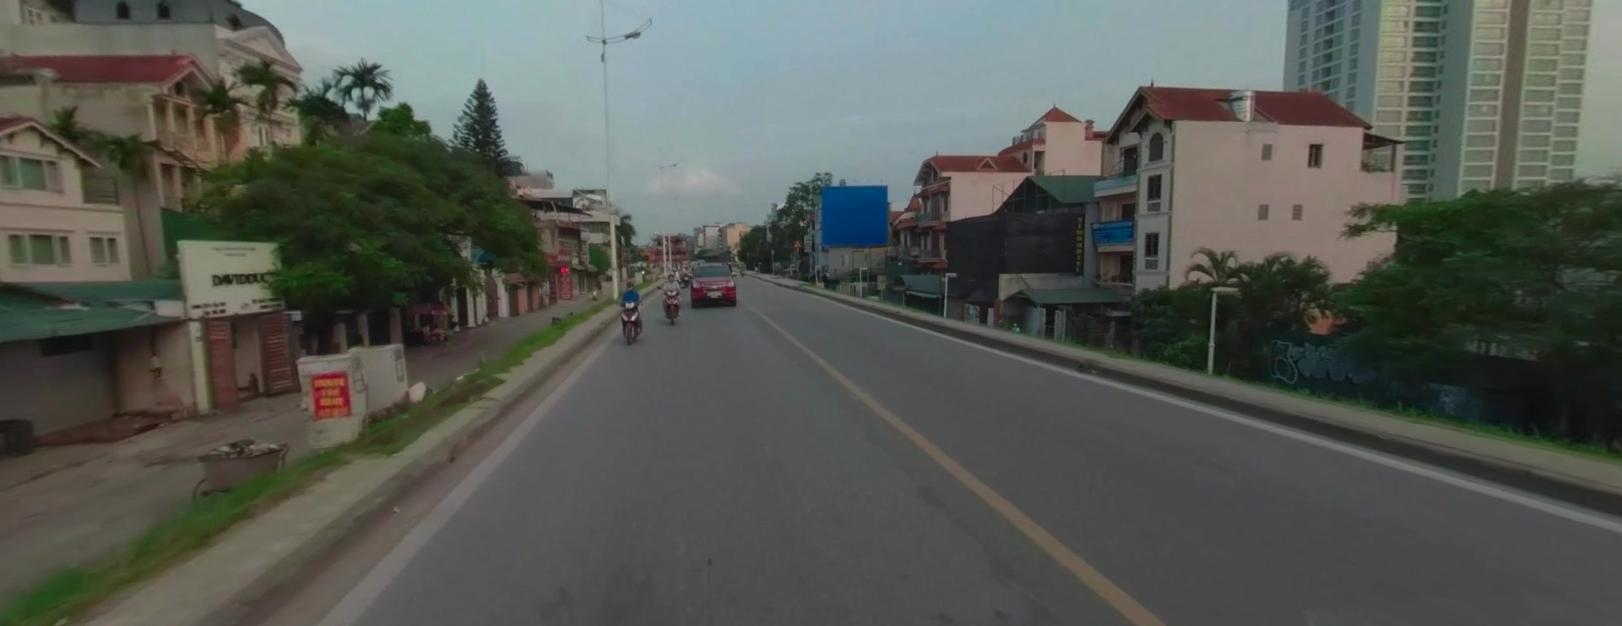Nguy hiem: (793, 238, 802, 246)
